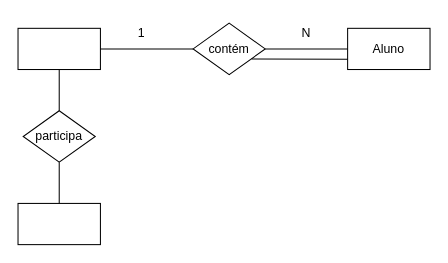
This 448x263 diagram has some shape labels left out. The shapes that lost their labels are listed below. From the top down, each one's centre as x and y in pixels, then its label:
At point 58,48: "Turma".
At point 58,223: "Atividade".
